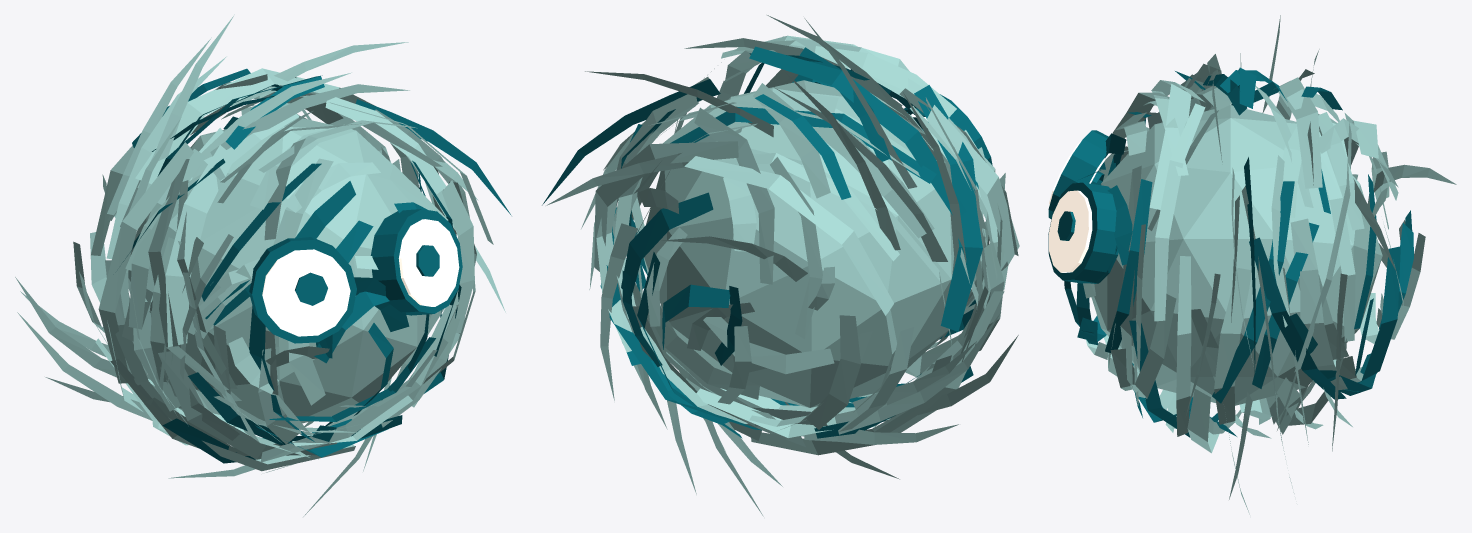
The model's file is bolita-rica-verdemar.glb.
3 views of the same model, side by side, from view 1: azimuth 30°, elevation 25°; view 2: azimuth 150°, elevation 25°; view 3: azimuth 270°, elevation 25° (orthographic). The views are drawn at different scales.
Visible parts, largest first — view 1: bolita-cuerpo; view 2: bolita-cuerpo; view 3: bolita-cuerpo.
Part boxes in pixels (left/top/right/bottom): bolita-cuerpo: left=15, top=14, right=511, bottom=516; bolita-cuerpo: left=542, top=15, right=1019, bottom=516; bolita-cuerpo: left=1048, top=15, right=1456, bottom=514.
Size of the model in its own units: 0.4477 by 0.4538 by 0.3495.
